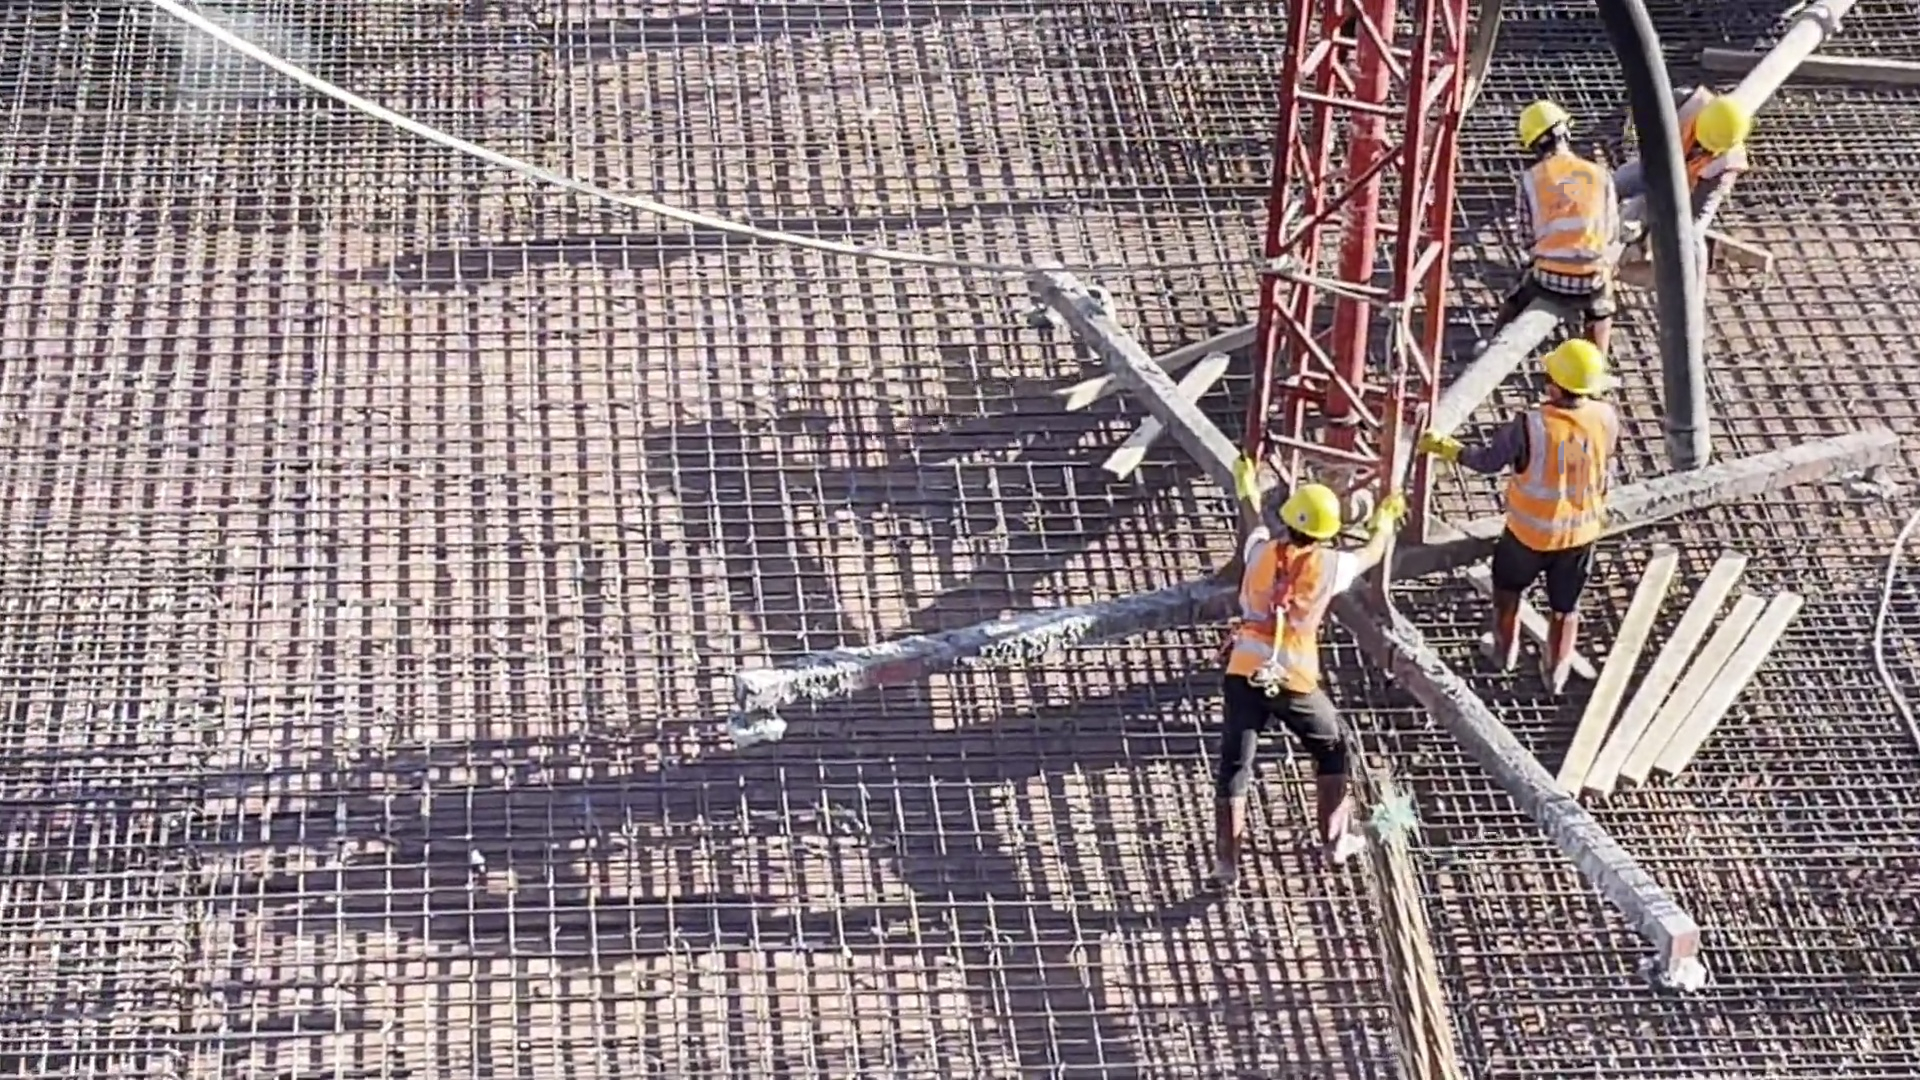helmet: (1277, 481, 1344, 548), (1536, 345, 1604, 399), (1703, 101, 1745, 157), (1519, 105, 1561, 149)
person: (1217, 467, 1388, 876), (1433, 333, 1619, 695), (1508, 98, 1630, 320), (1570, 97, 1743, 235)
vest: (1512, 405, 1609, 543), (1241, 551, 1325, 684), (1517, 167, 1604, 279)
